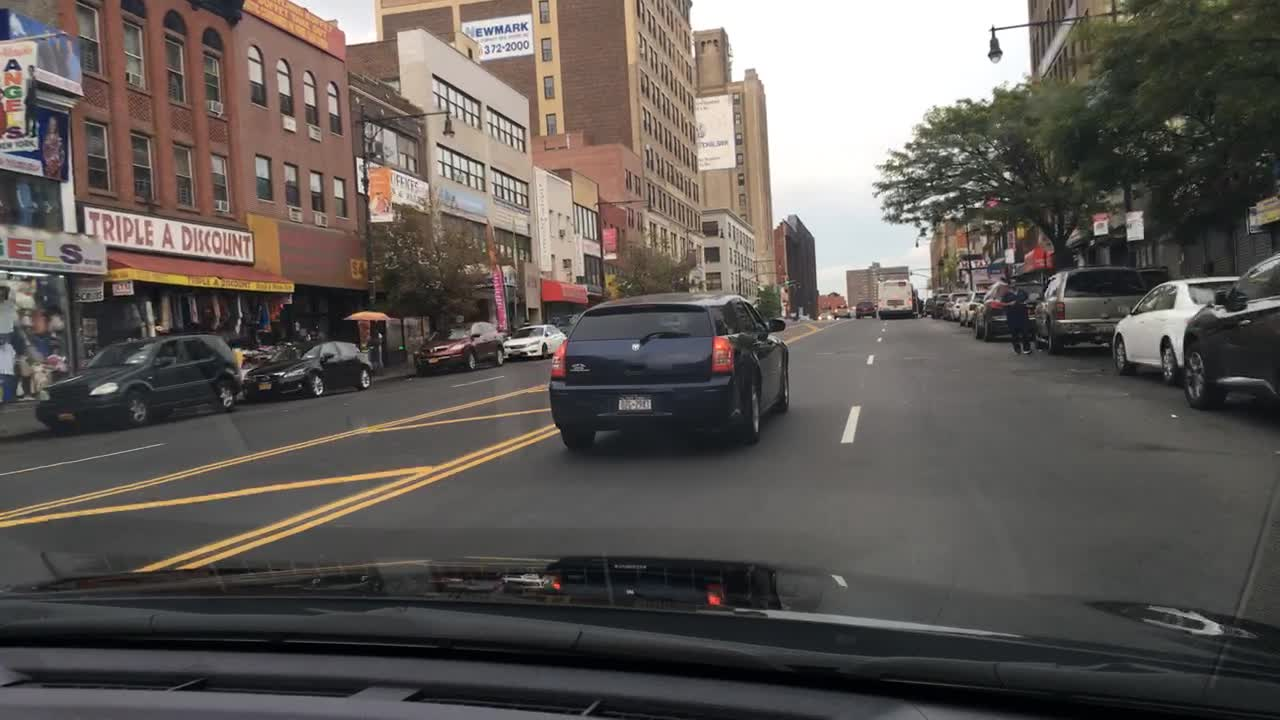bus: (877, 277, 919, 319)
car: (549, 290, 791, 448), (35, 332, 243, 433), (1180, 251, 1277, 412), (1111, 275, 1246, 378), (1032, 266, 1147, 355), (243, 336, 375, 402), (414, 319, 506, 376), (972, 275, 1047, 342), (500, 322, 570, 358), (958, 289, 987, 324), (942, 292, 970, 318), (930, 293, 947, 318), (852, 300, 878, 316), (833, 303, 853, 318), (924, 295, 936, 318), (817, 310, 837, 321)
person: (1002, 277, 1031, 358)
traffic light: (782, 275, 800, 287)
traffic sign: (867, 258, 881, 272)
